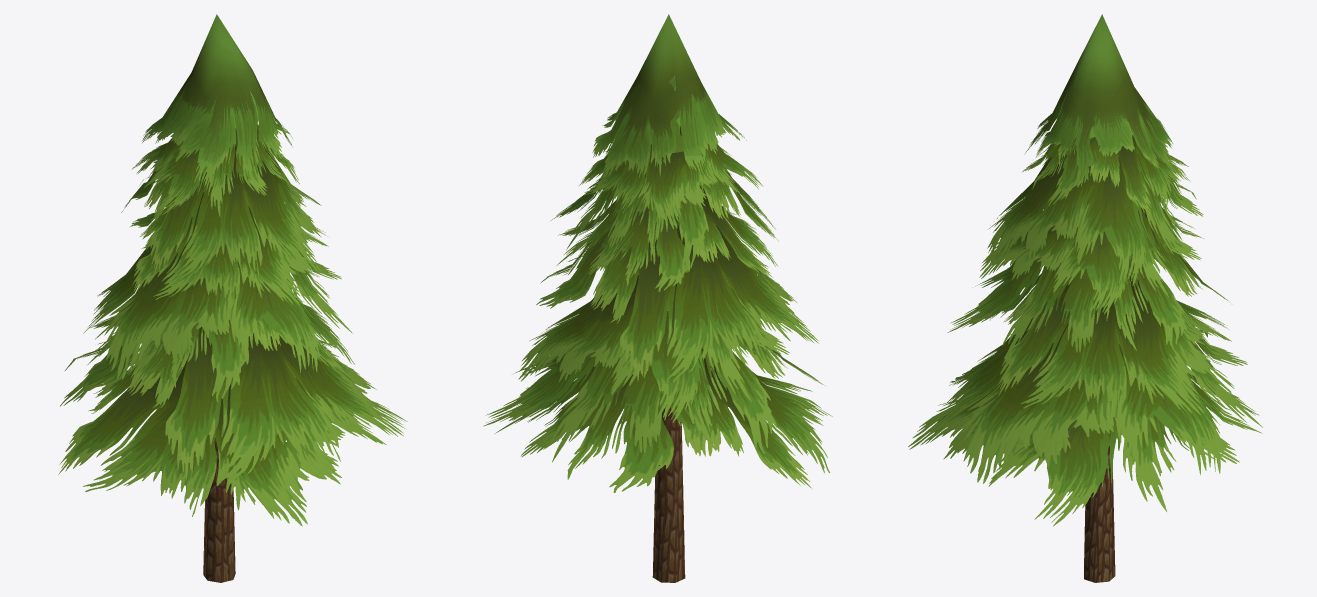
The model's file is spruce2_LOD0.fbx.
The picture shows the model from 3 angles, left to right: view 1: azimuth 30°, elevation 25°; view 2: azimuth 150°, elevation 25°; view 3: azimuth 270°, elevation 25°; orthographic projection.
Parts seen in each view (by area): view 1: spruce2_LOD0; view 2: spruce2_LOD0; view 3: spruce2_LOD0.
Part boxes in pixels (bbox=[...]): spruce2_LOD0: bbox=[58, 14, 407, 582]; spruce2_LOD0: bbox=[483, 14, 832, 582]; spruce2_LOD0: bbox=[908, 14, 1262, 582].
Bounding box in the file's own units: 330 × 481 × 313.
